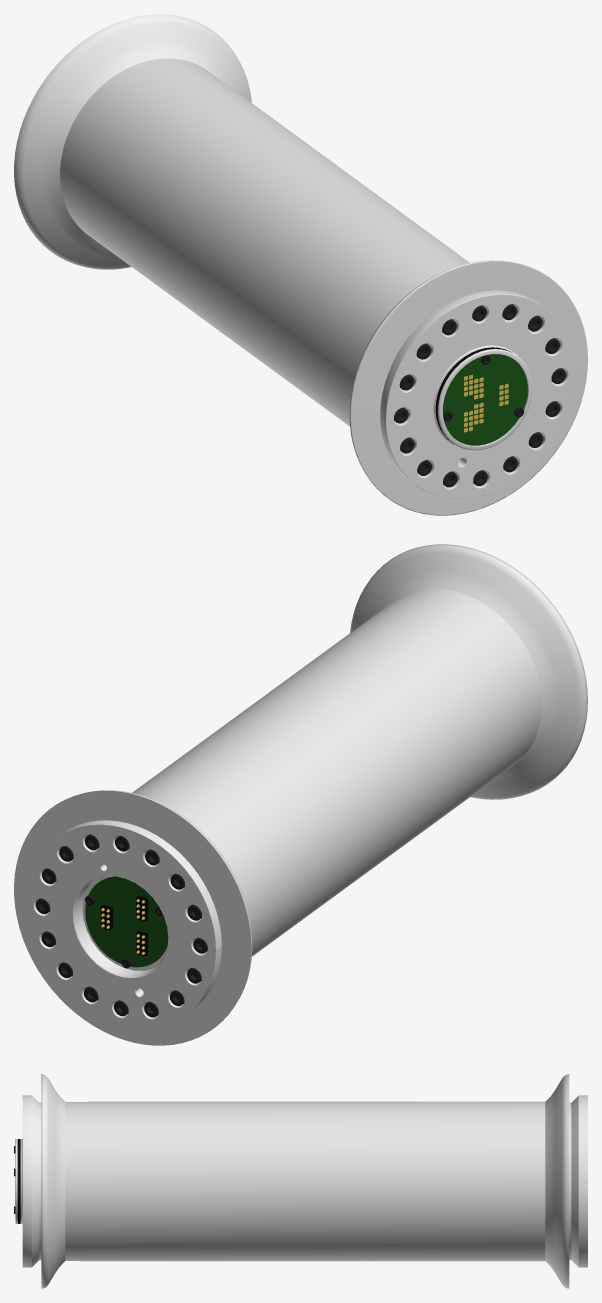
3 renders of one model, top to bottom at view 1: azimuth 30°, elevation 25°; view 2: azimuth 150°, elevation 25°; view 3: azimuth 270°, elevation 25°, orthographic. The views are drawn at different scales.
Visible parts, largest first — view 1: I116.001; view 2: I116.001; view 3: I116.001.
Boxes of the visible parts, left/top/right/bottom form: I116.001: left=14, top=14, right=587, bottom=515; I116.001: left=14, top=544, right=587, bottom=1045; I116.001: left=14, top=1074, right=587, bottom=1288.
Size of the model in its own units: 0.116 by 0.116 by 0.3097.
